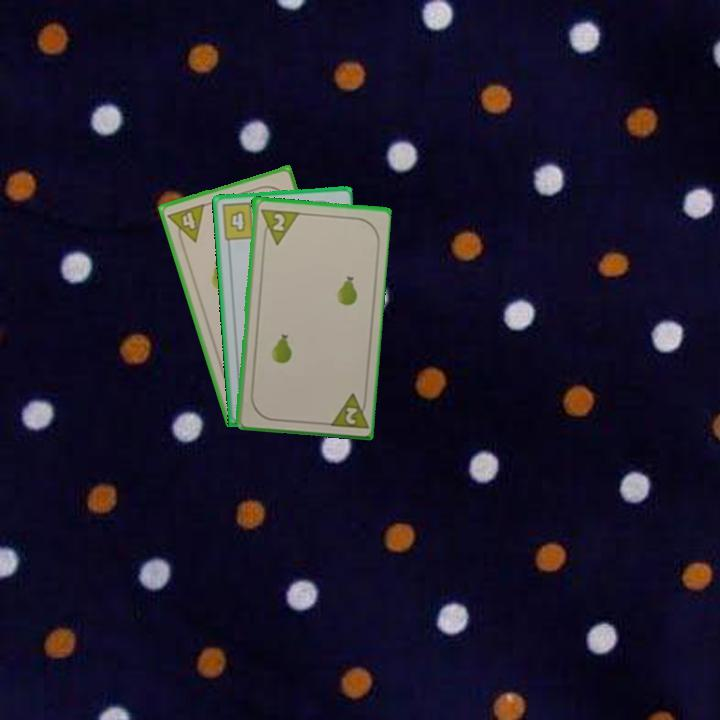2p: (324, 389, 369, 431), (268, 209, 287, 234)
4b: (218, 199, 262, 243)
4p: (164, 200, 208, 249)
